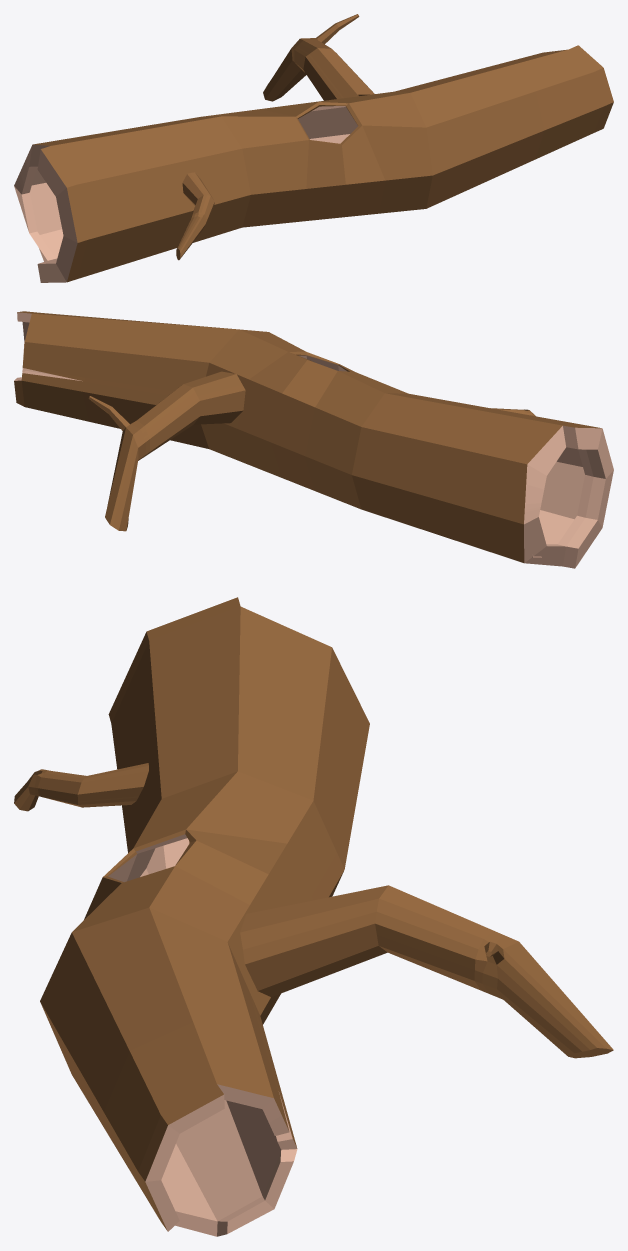
The model's file is TRONCO.fbx.
3 views of the same model, one above another, from view 1: azimuth 30°, elevation 25°; view 2: azimuth 150°, elevation 25°; view 3: azimuth 270°, elevation 25° (orthographic). The views are drawn at different scales.
Parts seen in each view (by area): view 1: Circle; view 2: Circle; view 3: Circle.
Part boxes in pixels (left/top/right/bottom): Circle: left=14, top=14, right=613, bottom=282; Circle: left=14, top=311, right=613, bottom=568; Circle: left=14, top=597, right=613, bottom=1236.
Bounding box in the file's own units: 351 × 81.68 × 189.
